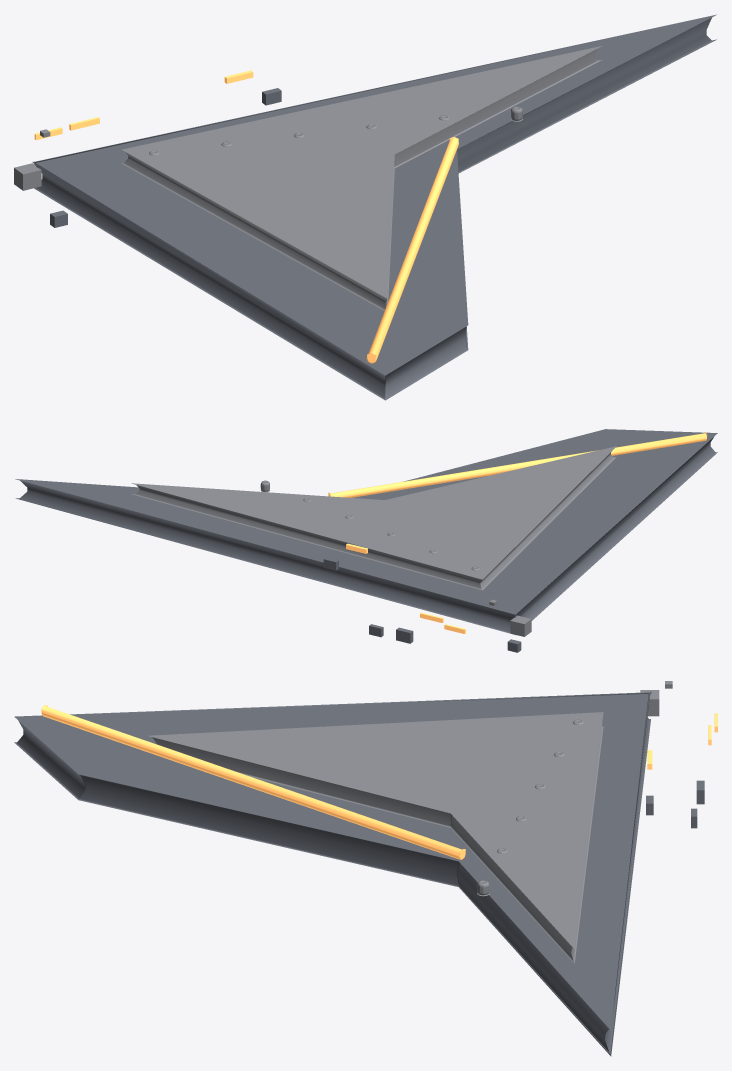
File: fin_swept_smuggler.glb
3 renders of one model, top to bottom at view 1: azimuth 30°, elevation 25°; view 2: azimuth 150°, elevation 25°; view 3: azimuth 270°, elevation 25°, orthographic. The views are drawn at different scales.
Parts seen in each view (by area): view 1: Swept_Blade, fin_swept_smuggler_Material_Mechanical_Merged, Swept_Edge, DET_mount_bracket; view 2: Swept_Blade, fin_swept_smuggler_Material_Mechanical_Merged, Swept_Edge, DET_mount_bracket; view 3: Swept_Blade, fin_swept_smuggler_Material_Mechanical_Merged, Swept_Edge.
Part boxes in pixels (x1,y1,x2,y2): Swept_Blade: (32, 14, 716, 400); fin_swept_smuggler_Material_Mechanical_Merged: (121, 45, 602, 310); Swept_Edge: (366, 137, 458, 363); DET_mount_bracket: (14, 163, 41, 190); Swept_Blade: (15, 429, 717, 634); fin_swept_smuggler_Material_Mechanical_Merged: (131, 446, 616, 590); Swept_Edge: (328, 432, 707, 497); DET_mount_bracket: (510, 615, 531, 636); Swept_Blade: (14, 691, 651, 1056); fin_swept_smuggler_Material_Mechanical_Merged: (147, 712, 603, 963); Swept_Edge: (41, 705, 465, 859).
Size of the model in its own units: 5.16 by 0.69 by 4.44.
